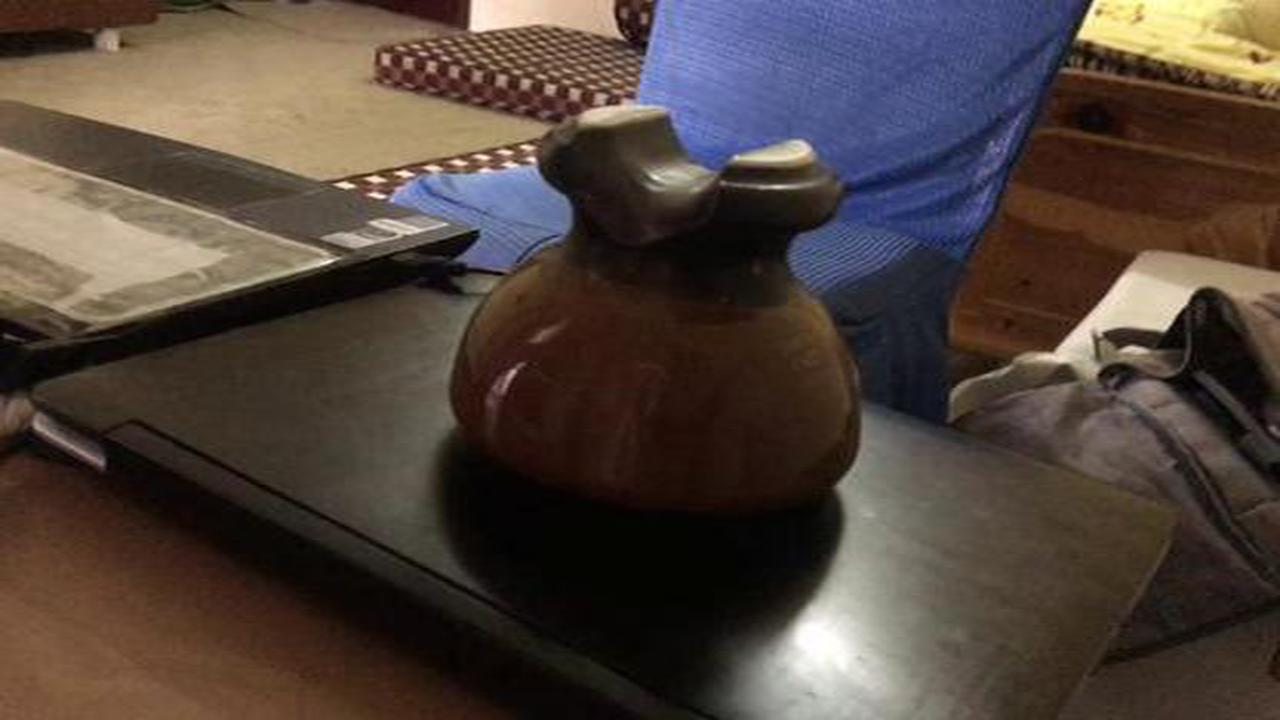insulator_pin: (431, 92, 887, 546)
